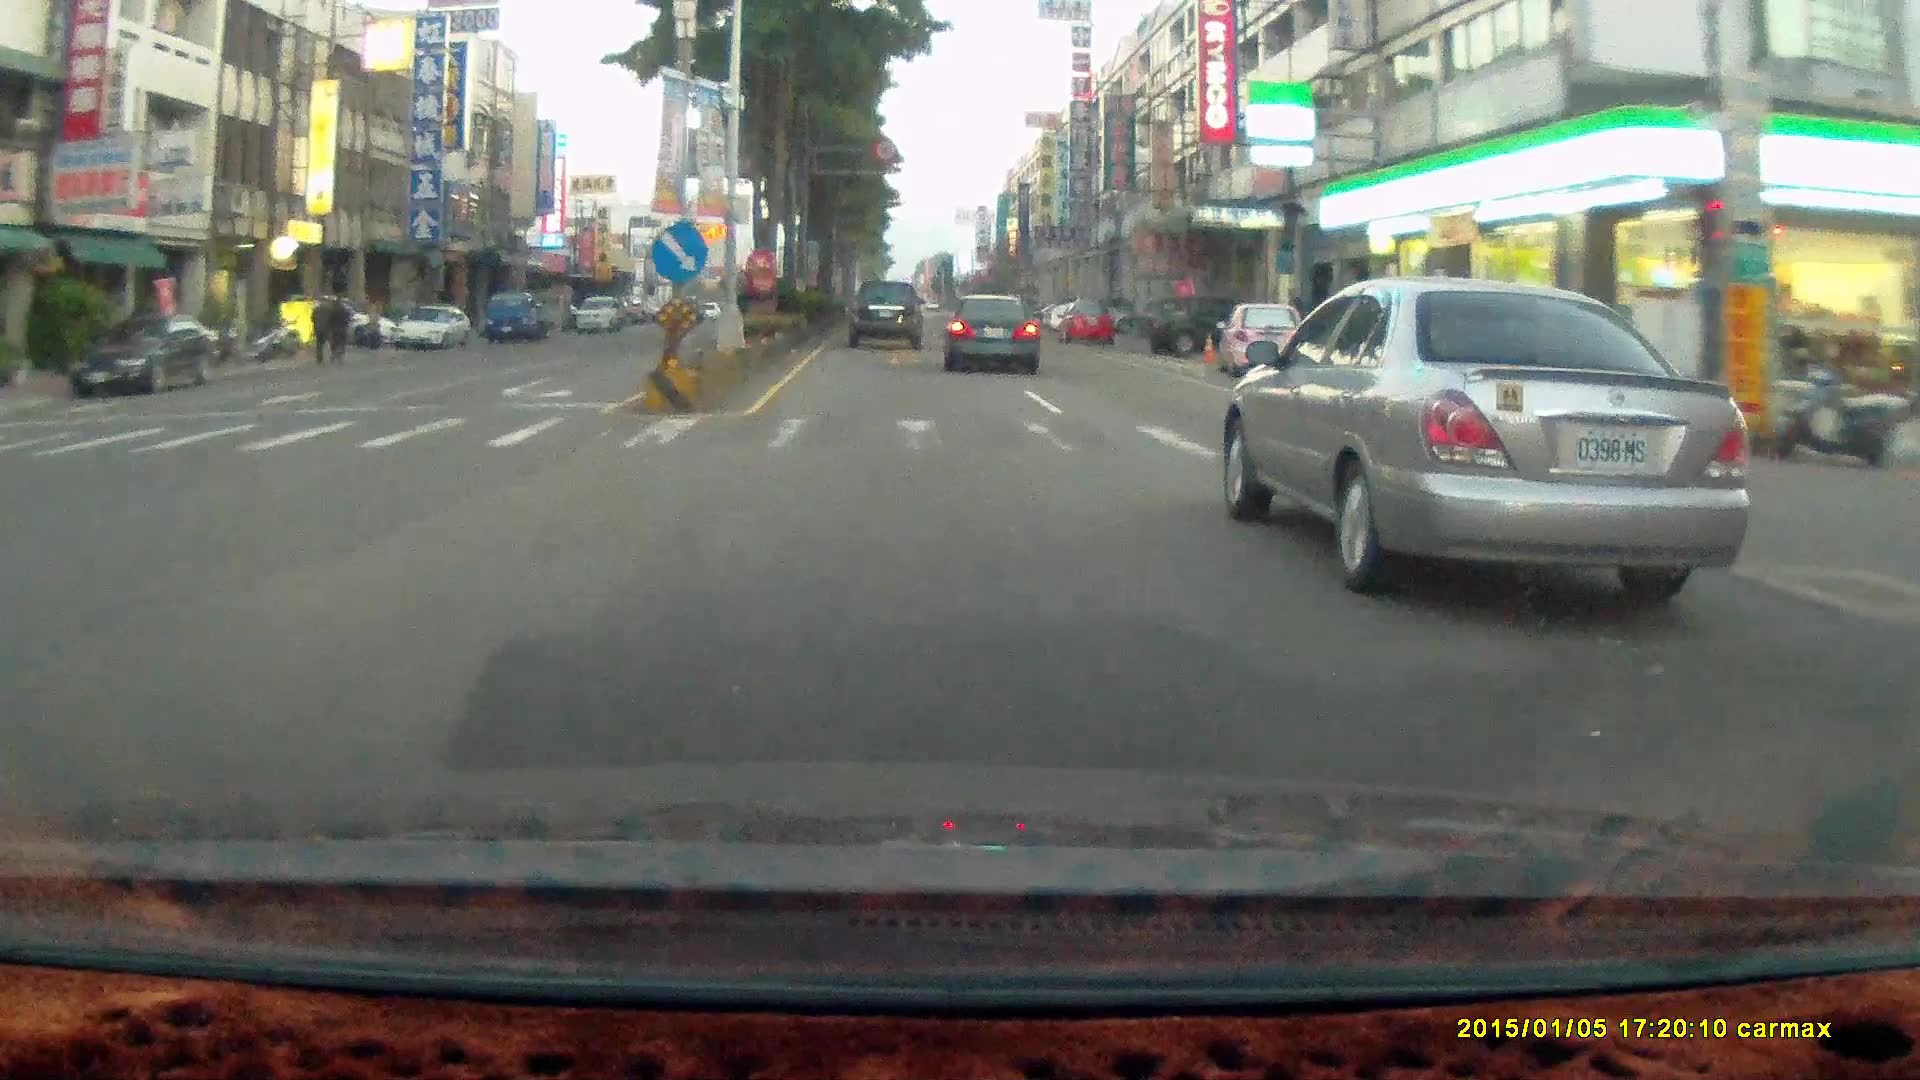pedestrian: (322, 291, 350, 365), (321, 298, 352, 363), (308, 292, 333, 364), (309, 295, 331, 362)
vehicle: (1227, 286, 1750, 626), (1476, 316, 1648, 457), (70, 314, 219, 396), (71, 316, 220, 397), (945, 299, 1043, 380), (944, 289, 1038, 370), (1138, 292, 1243, 357), (1221, 300, 1309, 374), (1214, 298, 1302, 369), (848, 281, 926, 355), (1138, 293, 1226, 358), (846, 279, 923, 349), (487, 294, 565, 349), (394, 303, 474, 351), (393, 309, 471, 354), (483, 292, 548, 344), (1065, 297, 1118, 345), (1057, 297, 1112, 344), (574, 295, 624, 332)
